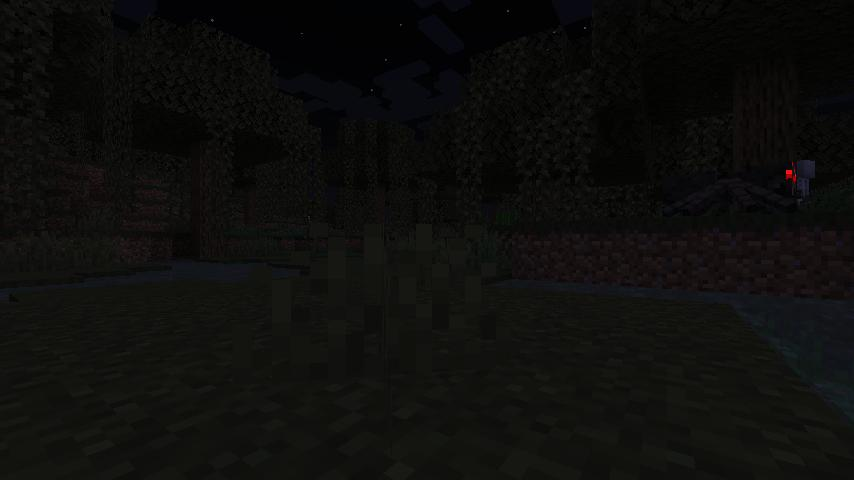skeleton: (797, 158, 818, 208)
spider: (654, 159, 797, 218)
